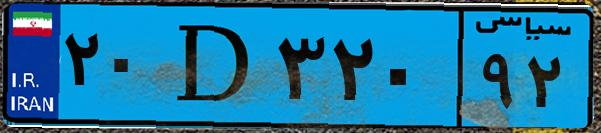0: (385, 28, 445, 110), (110, 28, 158, 98)
2: (330, 28, 385, 110), (57, 26, 110, 100), (525, 38, 570, 115)
3: (270, 28, 330, 110)
9: (475, 38, 525, 113)
D: (158, 12, 270, 120)
